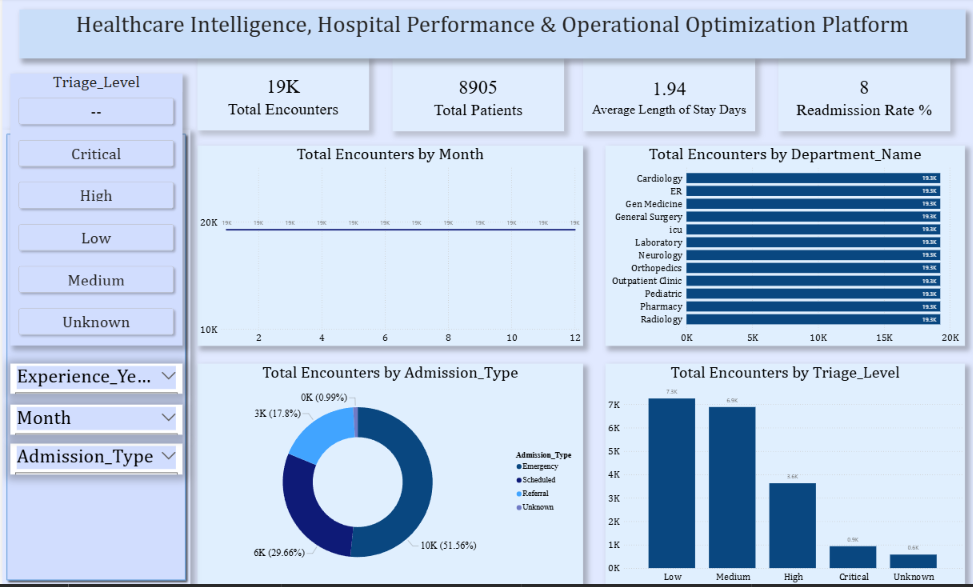

The dashboard page shown, as its layout file describes it:
{"tool":"powerbi","page":{"name":"Executive Hospital Performance","canvas":[2000,1200],"ordinal":0},"visuals":[{"type":"card","fields":{"Values":["healthcare bed_occupancy_clean.Total Encounters"]},"box":[398.6,122.6,351.4,148.6],"z":0},{"type":"card","fields":{"Values":["healthcare bed_occupancy_clean.Total Patients"]},"box":[797.2,125,351.4,148.6],"z":1000},{"type":"card","fields":{"Values":["healthcare bed_occupancy_clean.Average Length of Stay Days"]},"box":[1188.7,125,351.4,148.6],"z":2000},{"type":"card","fields":{"Values":["healthcare bed_occupancy_clean.Readmission Rate %"]},"box":[1587.3,125,351.4,148.6],"z":3000},{"type":"lineChart","fields":{"Category":["healthcare calendar_clean.Month"],"Y":["healthcare bed_occupancy_clean.Total Encounters"]},"box":[398.8,302.3,789,409.5],"z":4000},{"type":"clusteredColumnChart","fields":{"Y":["healthcare bed_occupancy_clean.Total Encounters"],"Category":["healthcare encounters_clean.Triage_Level"]},"box":[1232.9,748.3,735.4,452.4],"z":5000},{"type":"donutChart","fields":{"Category":["healthcare encounters_clean.Admission_Type"],"Y":["healthcare bed_occupancy_clean.Total Encounters"]},"box":[398.8,748.3,789,452.4],"z":6000},{"type":"clusteredBarChart","fields":{"Category":["healthcare departments_clean.Department_Name"],"Y":["healthcare bed_occupancy_clean.Total Encounters"]},"box":[1232.9,302.3,735.4,409.5],"z":7000},{"type":"shape","box":[0,270.2,383.8,930.5],"z":8000},{"type":"slicer","fields":{"Values":["healthcare staff_clean.Experience_Years"]},"box":[16.4,748.5,351.7,61.4],"z":9000},{"type":"slicer","fields":{"Values":["healthcare encounters_clean.Admission_Type"]},"box":[16.4,912.1,351.7,63.4],"z":10000},{"type":"slicer","fields":{"Values":["healthcare calendar_clean.Month"]},"box":[16.4,832.3,351.7,61.4],"z":11000},{"type":"advancedSlicerVisual","fields":{"Values":["healthcare encounters_clean.Triage_Level"]},"box":[16.4,155.4,351.7,556.2],"z":12000},{"type":"textbox","box":[34.8,24.5,1934.6,100.2],"z":21000}]}

Visuals, with their boxes in screenshot pixels (x1, y1, x2, y2), scaled from the page's 2000x1200 canvas onto the 973x587 screenshot:
card - healthcare bed_occupancy_clean.Total Encounters: locate(194, 60, 365, 133)
card - healthcare bed_occupancy_clean.Total Patients: locate(388, 61, 559, 134)
card - healthcare bed_occupancy_clean.Average Length of Stay Days: locate(578, 61, 749, 134)
card - healthcare bed_occupancy_clean.Readmission Rate %: locate(772, 61, 943, 134)
lineChart - healthcare calendar_clean.Month x healthcare bed_occupancy_clean.Total Encounters: locate(194, 148, 578, 348)
clusteredColumnChart - healthcare bed_occupancy_clean.Total Encounters x healthcare encounters_clean.Triage_Level: locate(600, 366, 958, 586)
donutChart - healthcare encounters_clean.Admission_Type x healthcare bed_occupancy_clean.Total Encounters: locate(194, 366, 578, 586)
clusteredBarChart - healthcare departments_clean.Department_Name x healthcare bed_occupancy_clean.Total Encounters: locate(600, 148, 958, 348)
shape: locate(0, 132, 187, 586)
slicer - healthcare staff_clean.Experience_Years: locate(8, 366, 179, 396)
slicer - healthcare encounters_clean.Admission_Type: locate(8, 446, 179, 477)
slicer - healthcare calendar_clean.Month: locate(8, 407, 179, 437)
advancedSlicerVisual - healthcare encounters_clean.Triage_Level: locate(8, 76, 179, 348)
textbox: locate(17, 12, 958, 61)
